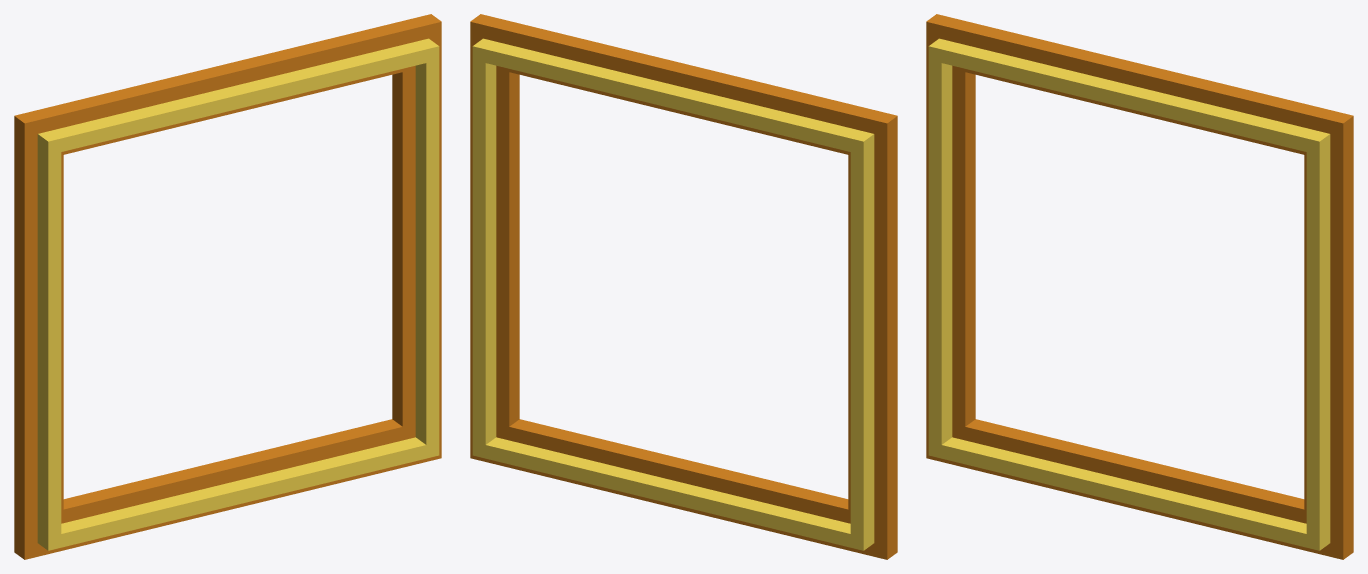
File: JumpGate.obj
The picture shows the model from 3 angles, left to right: view 1: azimuth 30°, elevation 25°; view 2: azimuth 150°, elevation 25°; view 3: azimuth 330°, elevation 25°; orthographic projection.
Size of the model in its own units: 32 by 32 by 4.2.
1 material, 1 textured.
